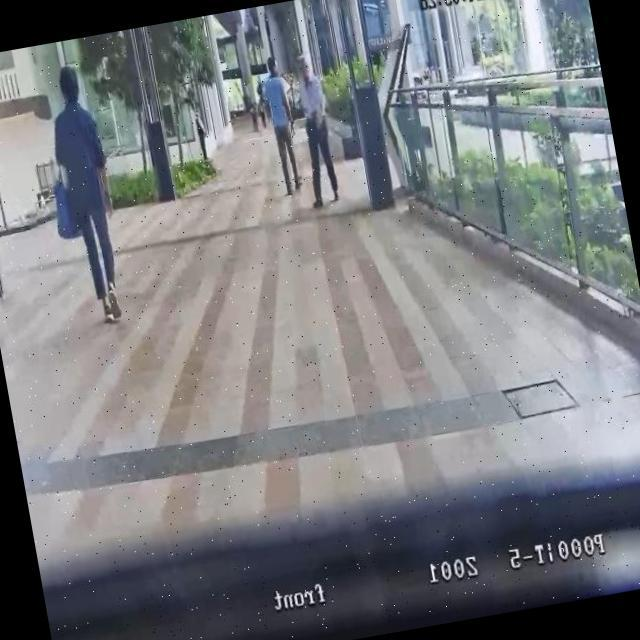person: (39, 60, 134, 327), (286, 50, 344, 208), (254, 53, 306, 197), (192, 108, 210, 162), (255, 89, 268, 130), (248, 99, 262, 132)
